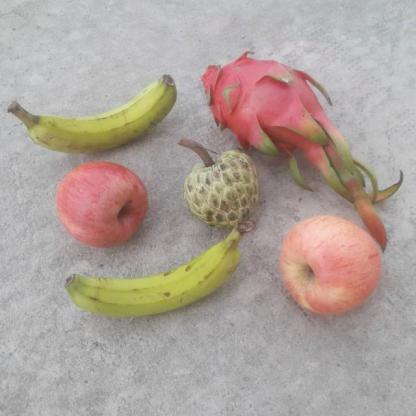annona: (185, 150, 260, 224)
apple: (280, 216, 386, 314), (62, 158, 147, 248)
banana: (63, 235, 238, 318), (24, 71, 178, 153)
pitaya: (204, 56, 327, 150)
